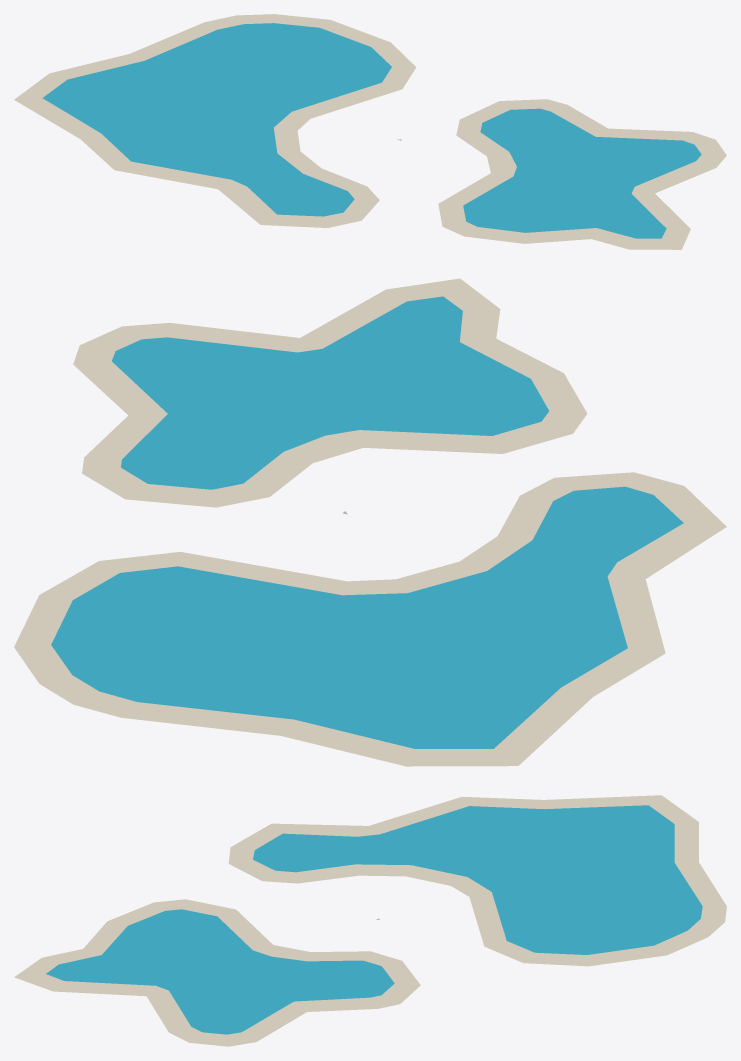
The model's file is pbpool_m21_m13.glb.
3 renders of one model, top to bottom at view 1: azimuth 30°, elevation 25°; view 2: azimuth 150°, elevation 25°; view 3: azimuth 270°, elevation 25°, orthographic. The views are drawn at different scales.
Parts seen in each view (by area): view 1: pbpool_m21_m13_lod0; view 2: pbpool_m21_m13_lod0; view 3: pbpool_m21_m13_lod0.
Part boxes in pixels (x1=…): pbpool_m21_m13_lod0: x1=14, y1=14, x2=726, y2=249; pbpool_m21_m13_lod0: x1=14, y1=278, x2=726, y2=766; pbpool_m21_m13_lod0: x1=14, y1=795, x2=726, y2=1046.
Size of what is drawn, in the model's own units: 31.2 by 0.3824 by 38.2.
